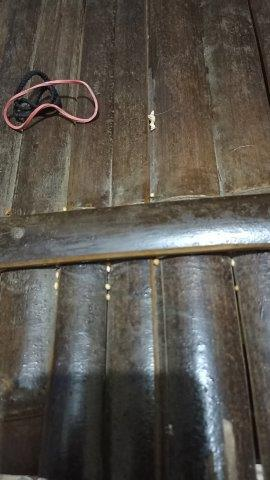karet: (4, 70, 99, 129)
